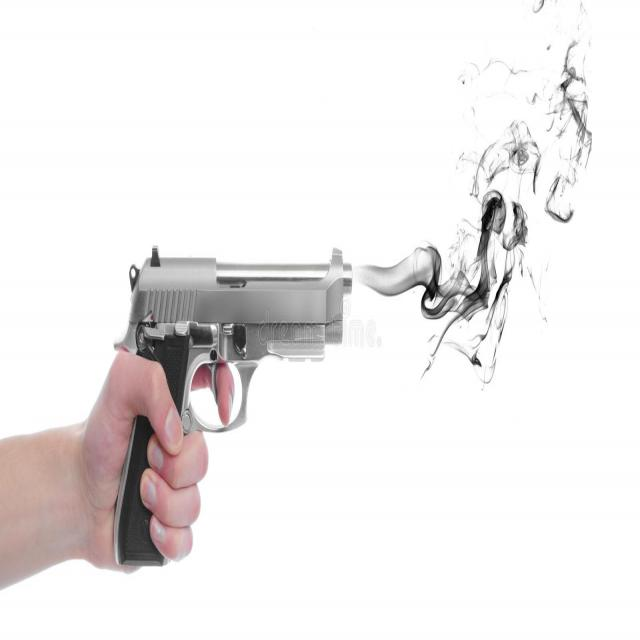gun: (102, 238, 358, 590)
